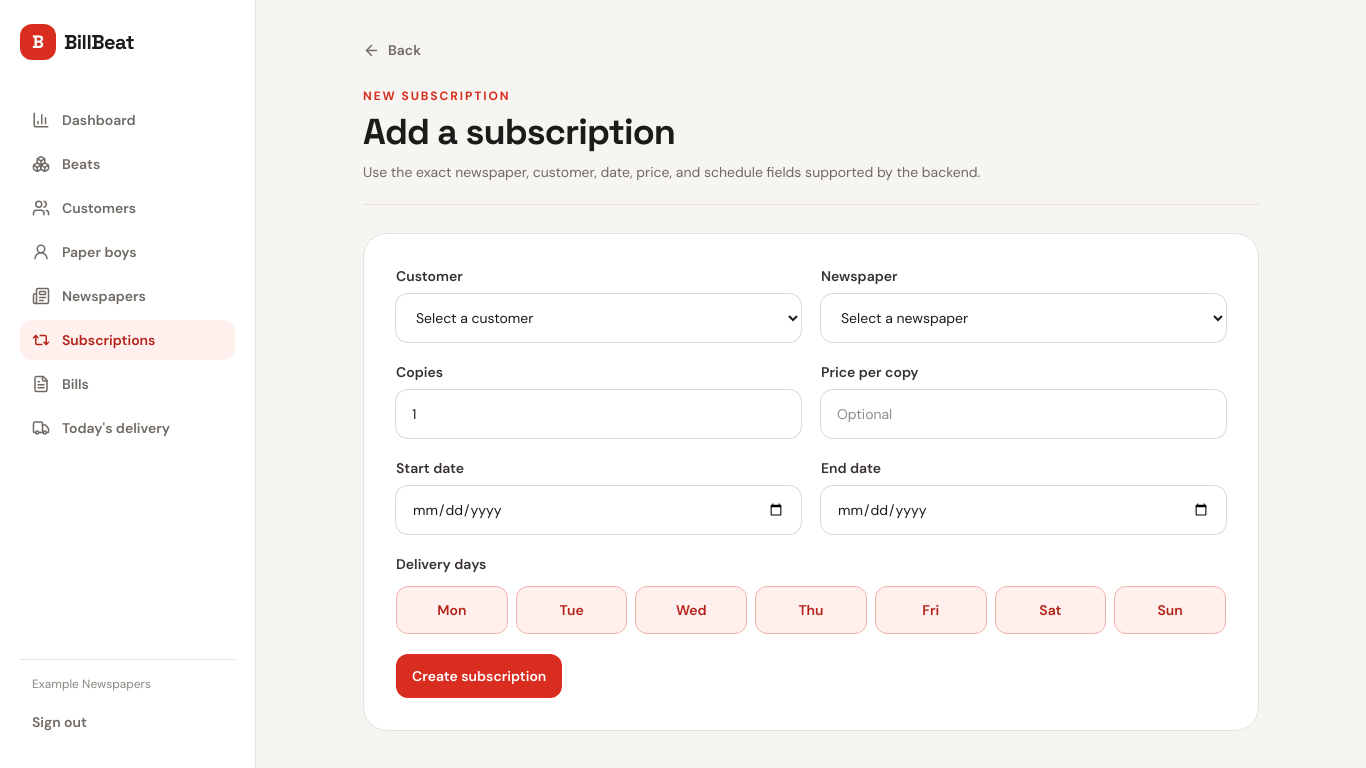
subscription forms › shows backend validation errors
Check: the button "Create subscription" is shown, box top-left (396, 654), bottom-right (562, 698)
Select "Rahul Sharma" in the dropdown labelled "Customer" at point(598, 318), box top-left (396, 294), bottom-right (801, 342)
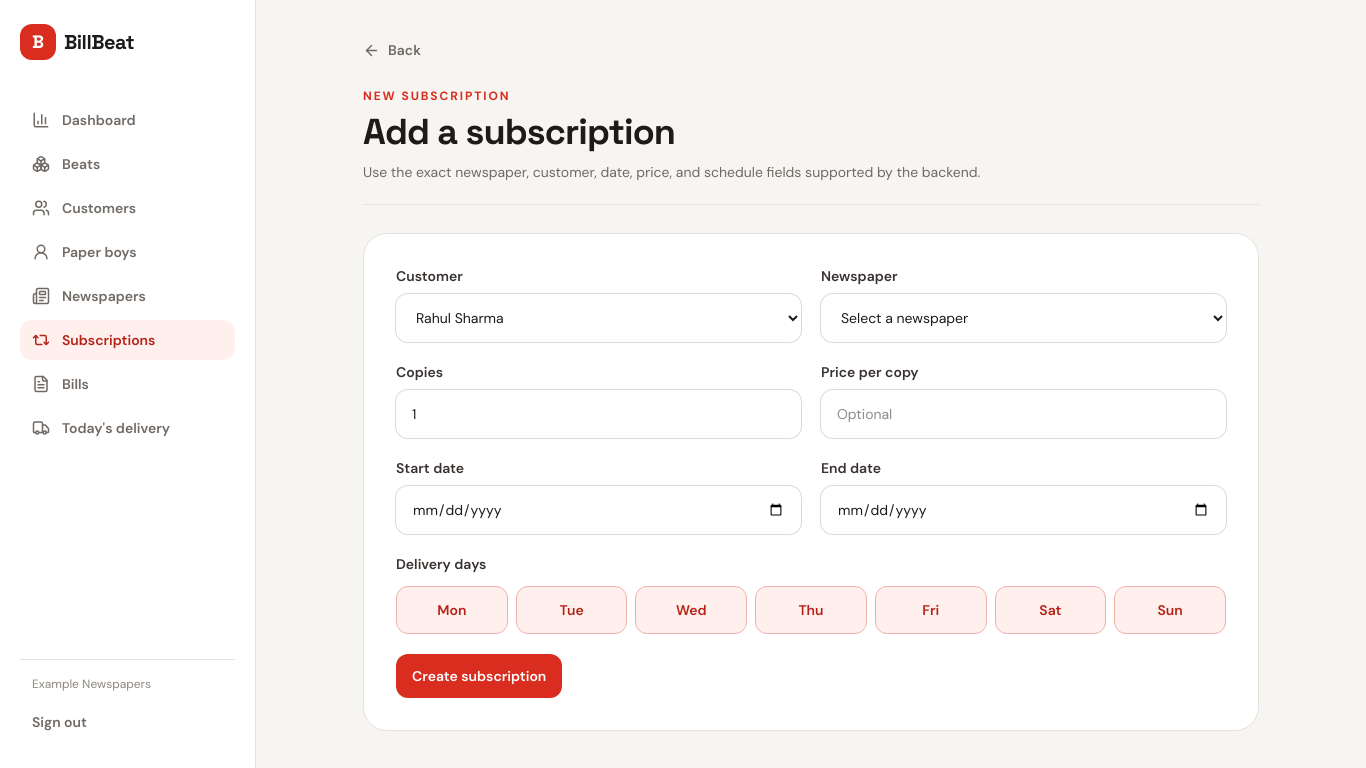
Select "Daily News" in the dropdown labelled "Newspaper" at point(1024, 318), box top-left (821, 294), bottom-right (1226, 342)
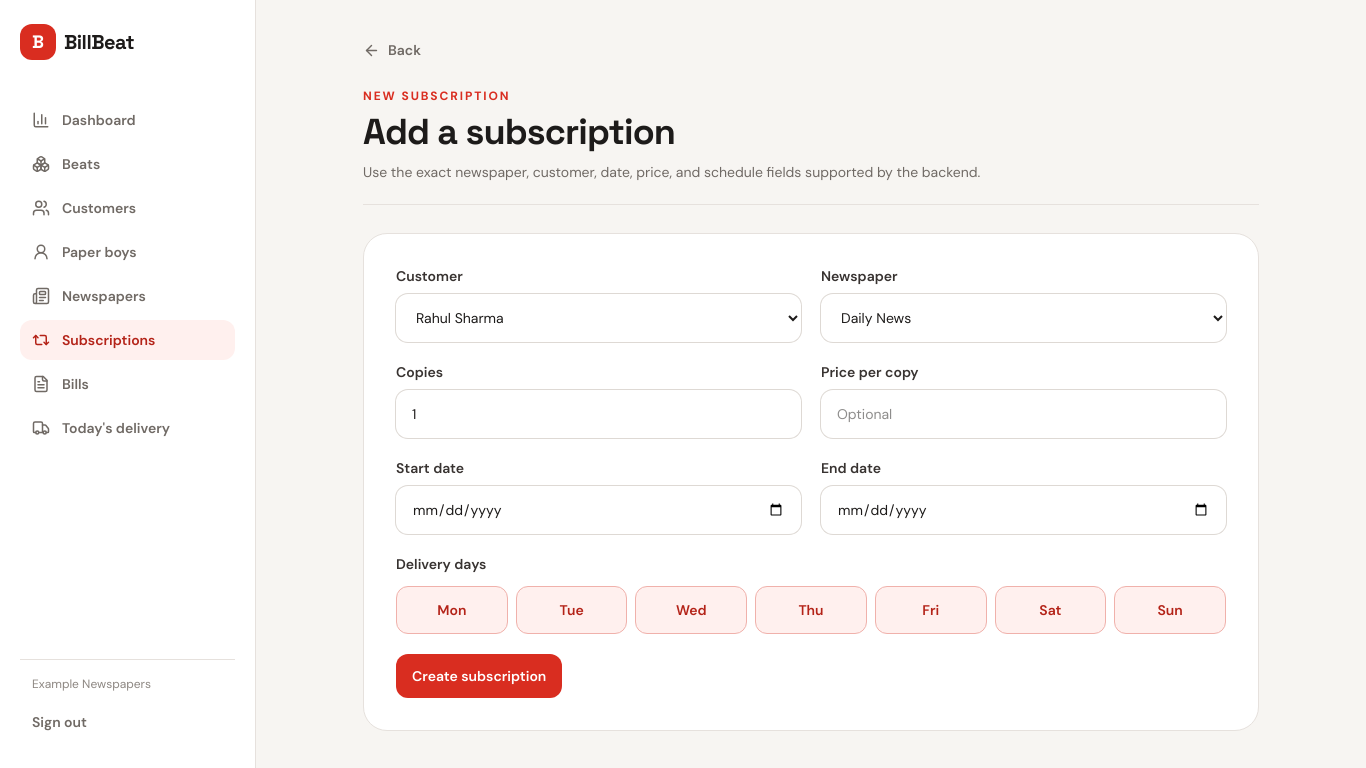
Type "2026-09-01" into the date field labelled "Start date" at point(598, 510), box top-left (396, 486), bottom-right (801, 534)
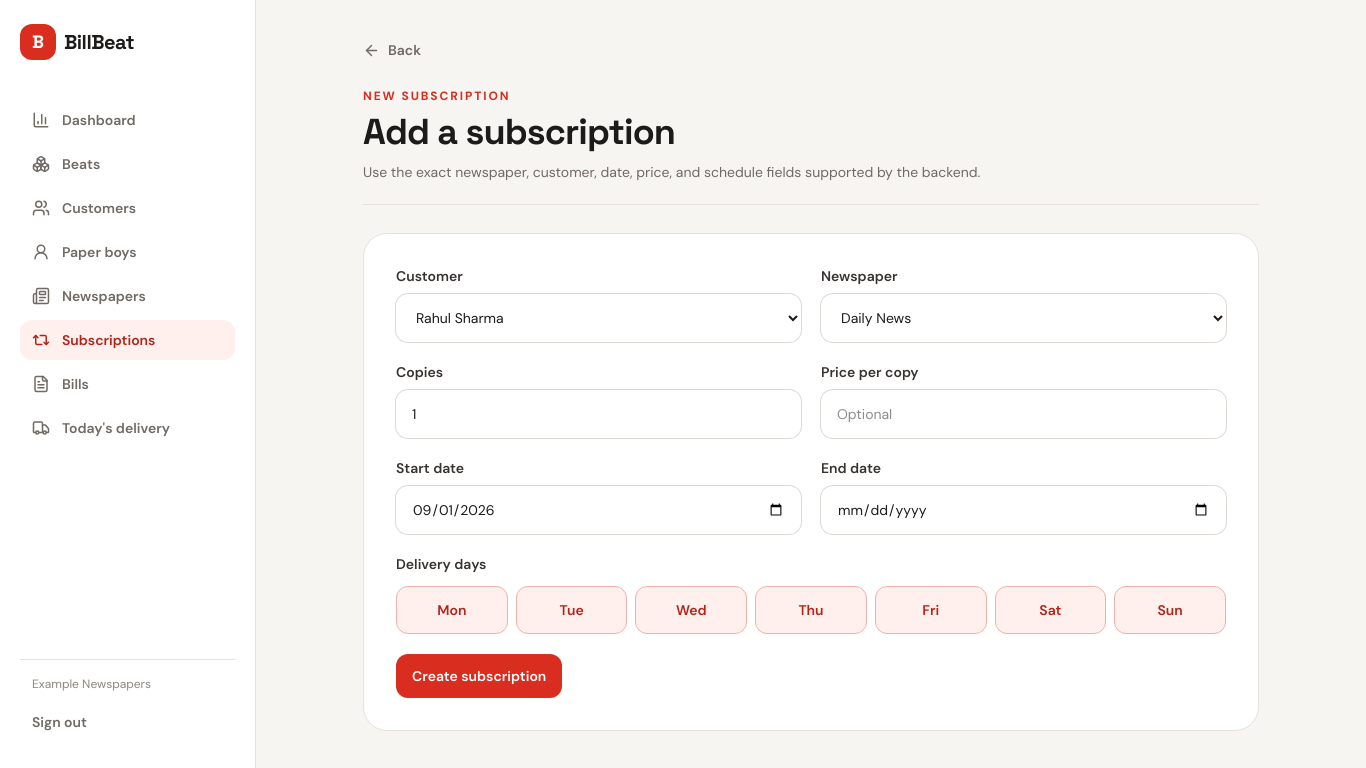
Click the button "Create subscription" at point(479, 676), box top-left (396, 654), bottom-right (562, 698)
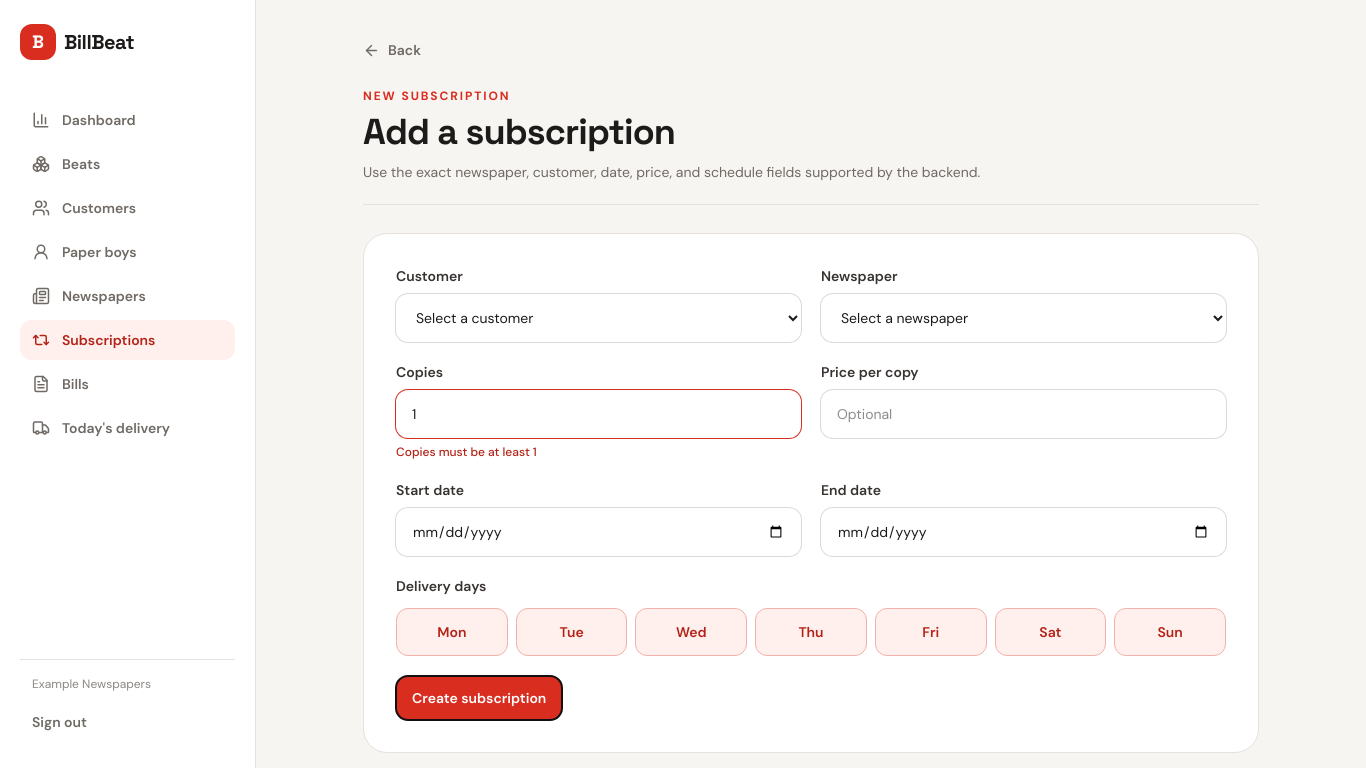
Check: the text "Copies must be at least 1" is shown, box top-left (396, 444), bottom-right (537, 460)
